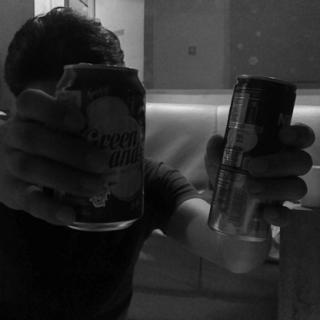alumunium_can: (56, 62, 148, 232), (209, 76, 298, 240)
